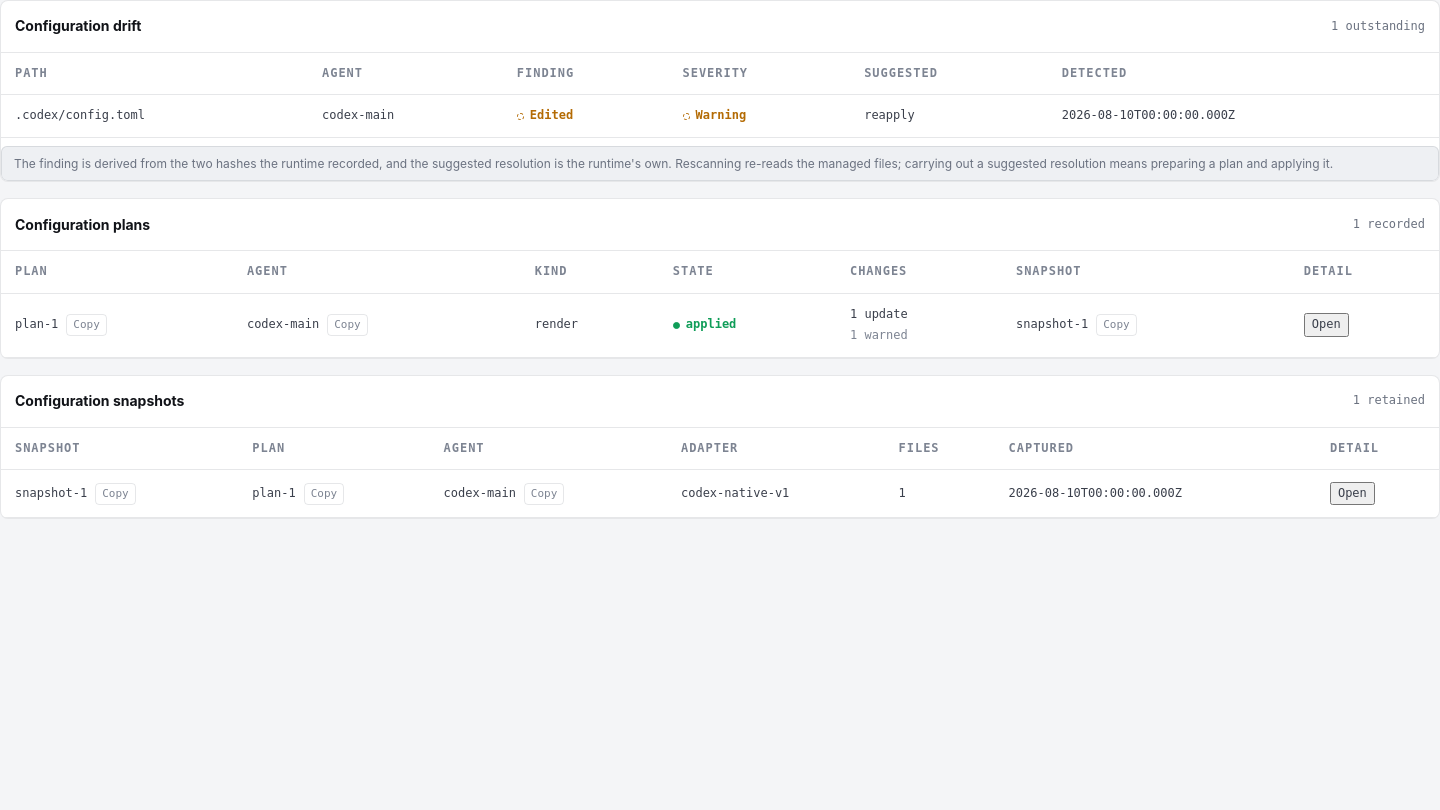
Test: ConfigView › opens a plan and shows the redacted diff the daemon produced
Step 1. Click the button with aria-label "Open plan-1" → x=1326, y=325, box [1304, 313, 1349, 337]
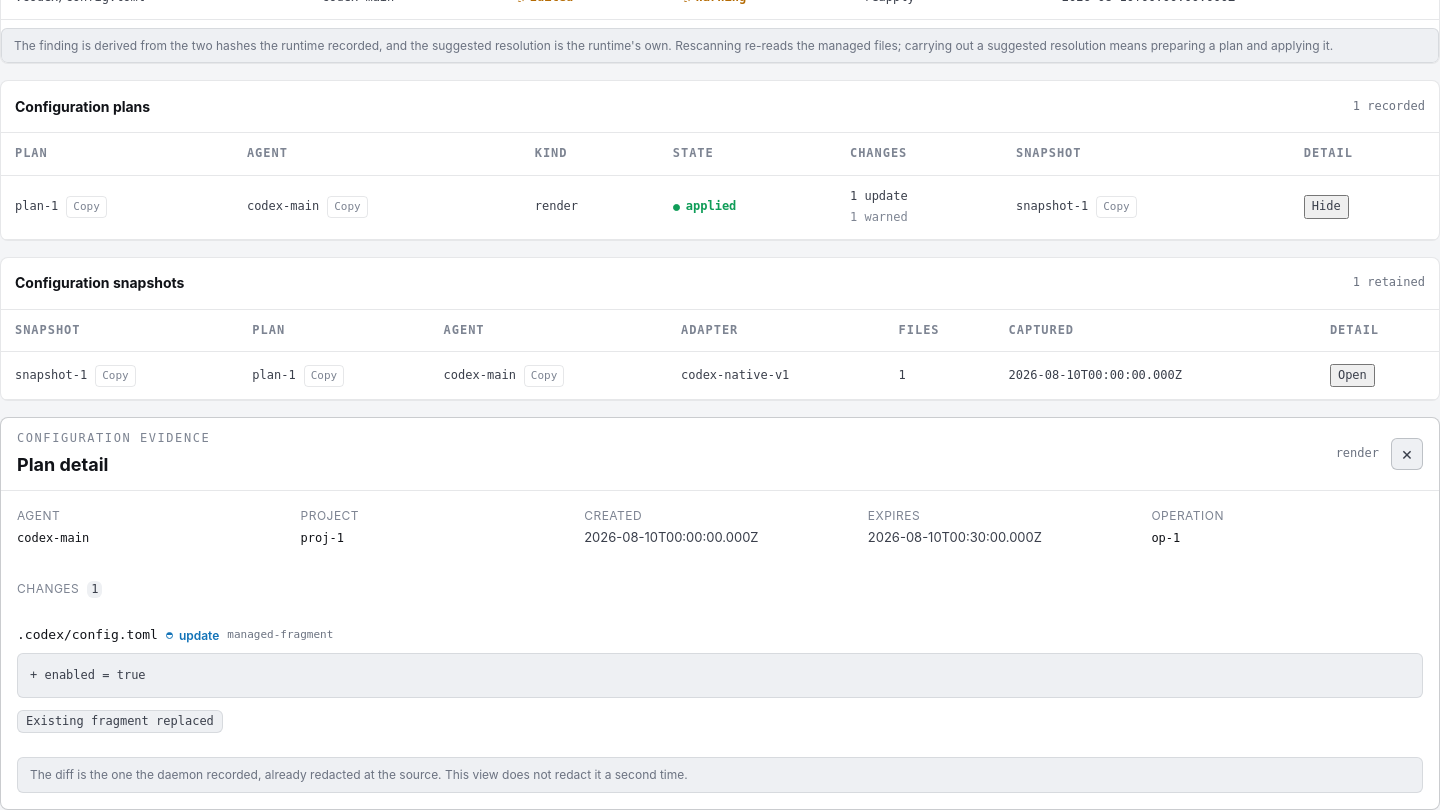
expect the text "+ enabled = true" is shown: met, box [17, 653, 1423, 698]
expect the list item "Existing fragment replaced" is shown: met, box [17, 710, 223, 733]
expect the text "managed-fragment" is shown: met, box [227, 627, 333, 643]
